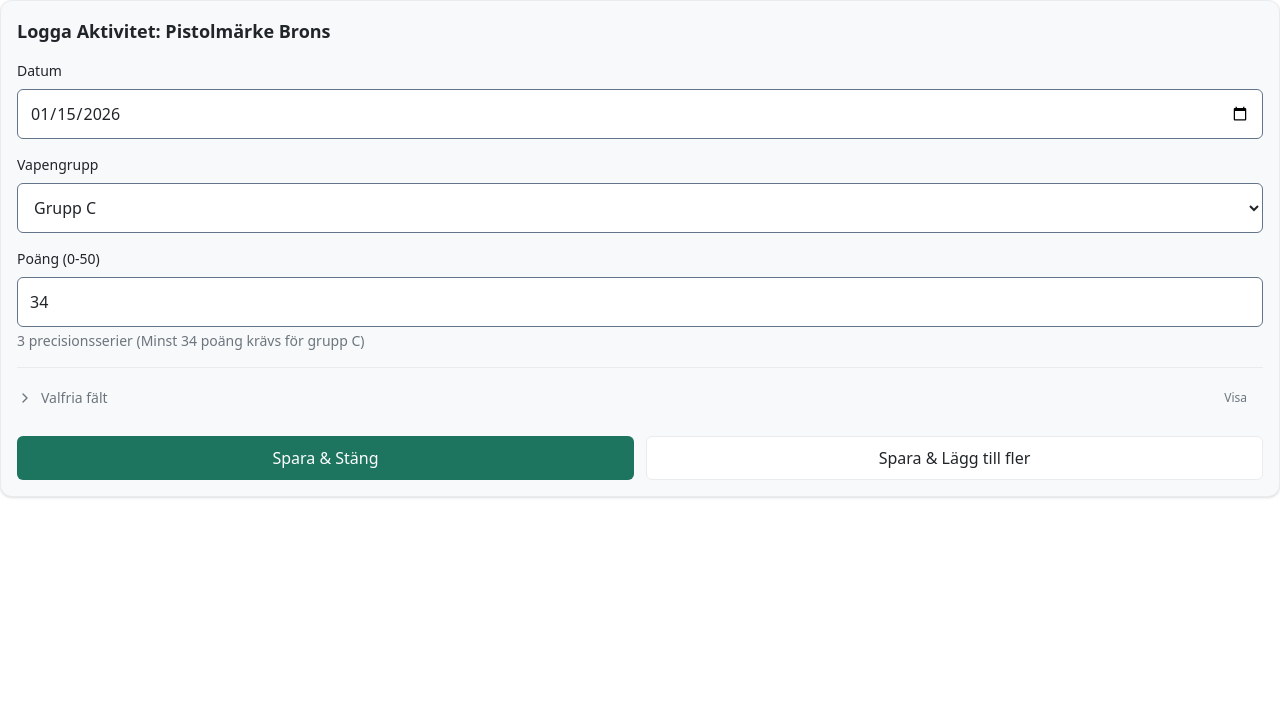
Test case: UniversalAchievementLogger › error handling › shows error message when save fails
The width and height of the screenshot is (1280, 720).
Click the button "Spara & Stäng".
click(326, 458)  # box [17, 436, 634, 480]
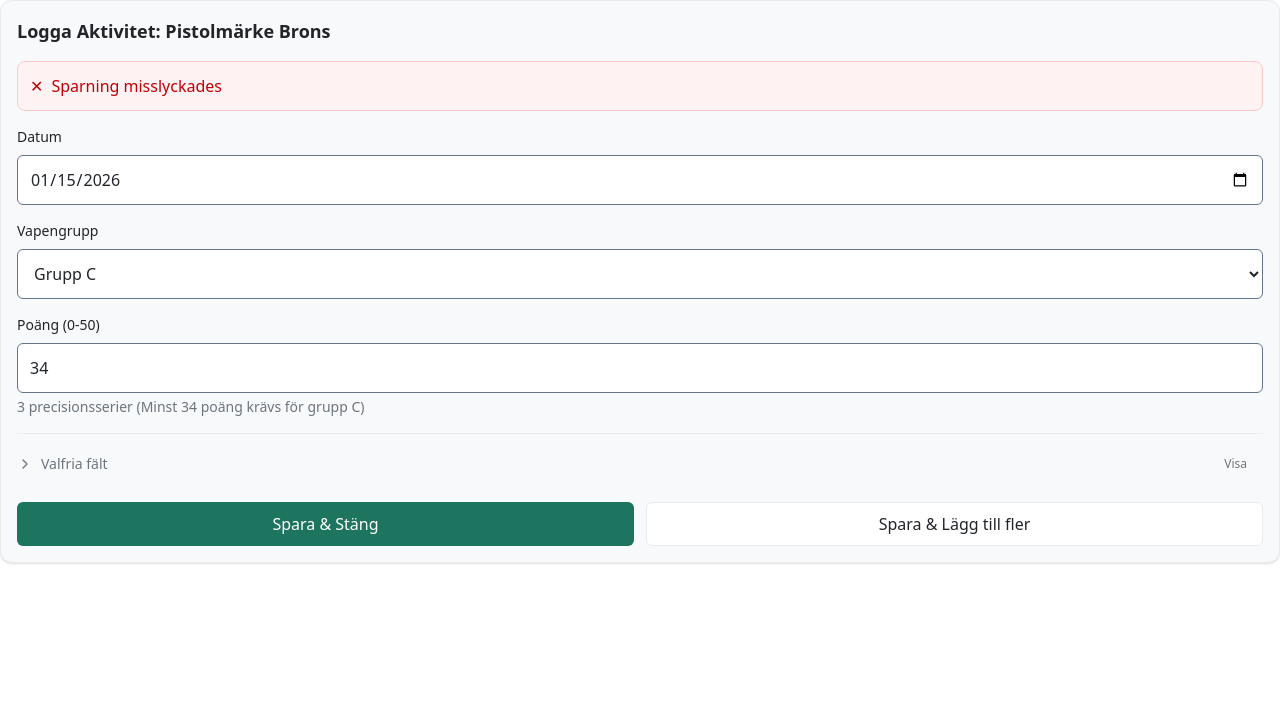
Result: the text "Sparning misslyckades" is shown at [51, 74, 222, 98]
